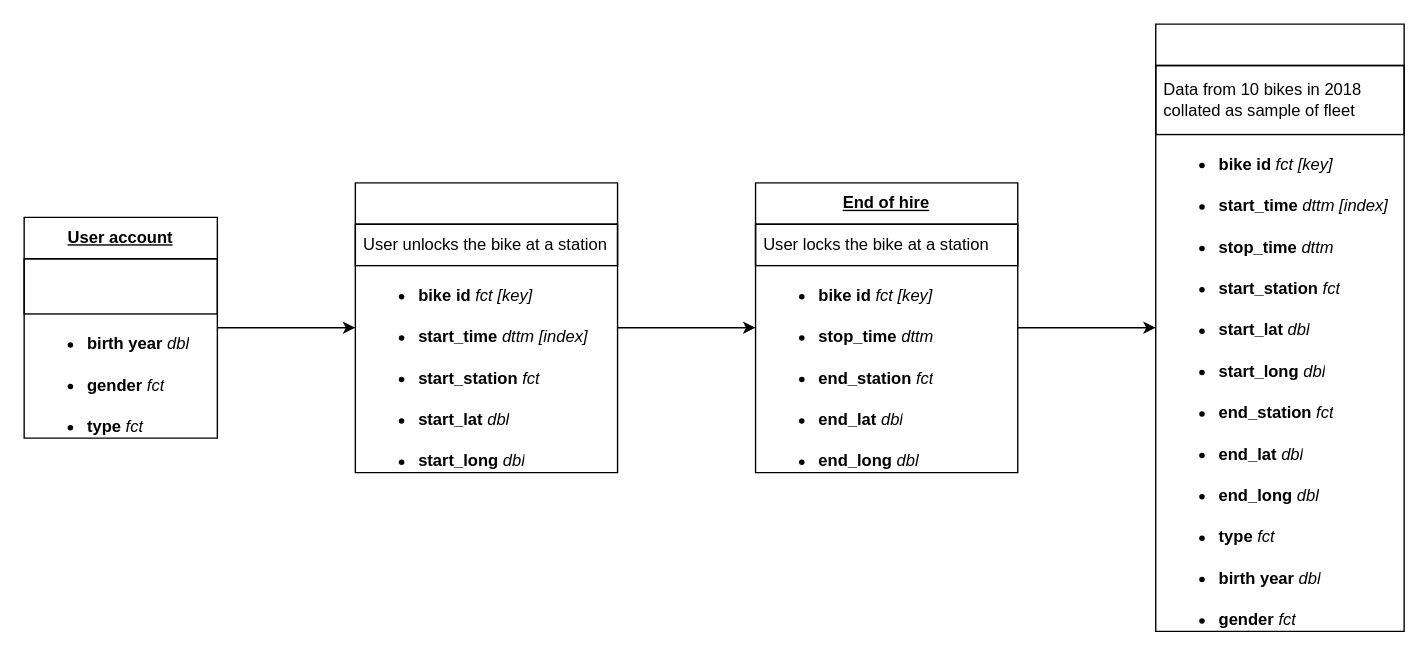
Some shapes in this 1428 by 656 pixel diagram are drawn without their labels. The shapes that lost their labels are listed below. From the top down, each one's box as (x1, y1, x2, y2) in pixels, then its label:
(23, 257, 217, 314): User creates an account on the app
(354, 181, 618, 473): Start of hire
(1154, 23, 1404, 631): nyc_bikes.csv
